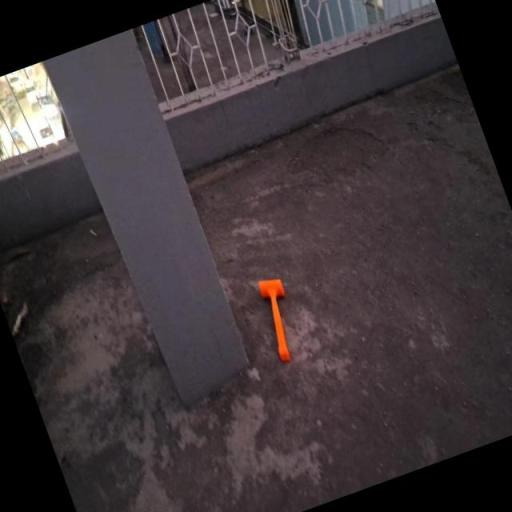mallet: (253, 274, 308, 363)
